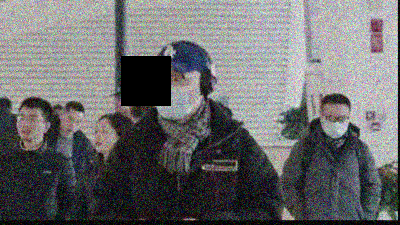with_mask: (149, 66, 200, 121), (323, 112, 350, 139)
without_mask: (15, 112, 42, 140), (93, 123, 117, 152), (59, 115, 82, 138)
